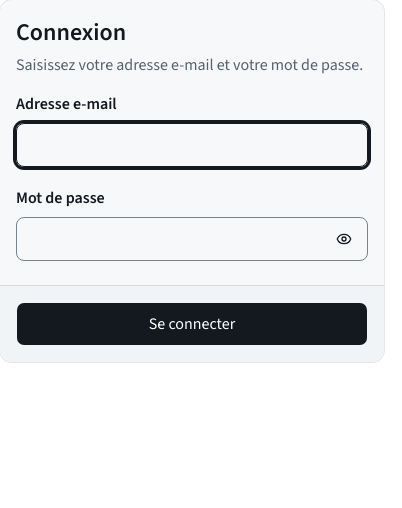
LoginForm › explains a lock-out in its own words, never with the server text
The width and height of the screenshot is (402, 508).
In the field labelled "Adresse e-mail": point(192, 145) [16,123,368,167], type "khawla@exemple.test"
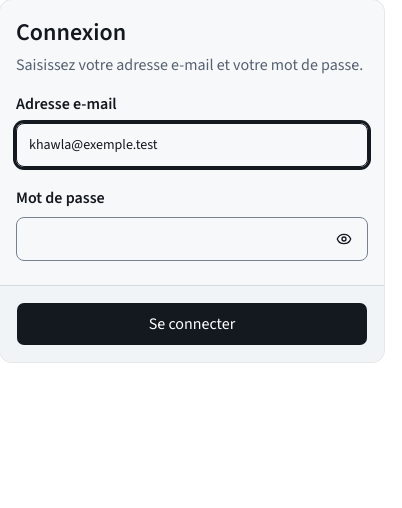
In the password field labelled "Mot de passe": point(192, 239) [16,217,368,261], type "x"
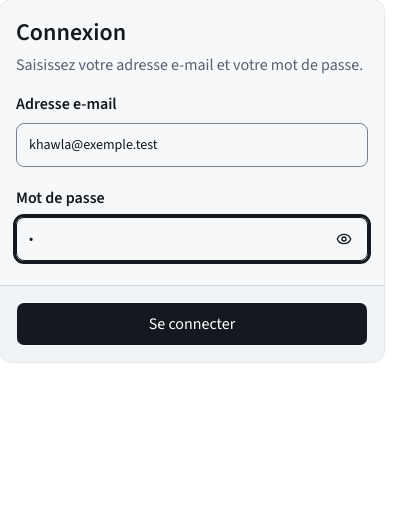
Click the button "Se connecter": point(192, 324) [16,302,368,346]
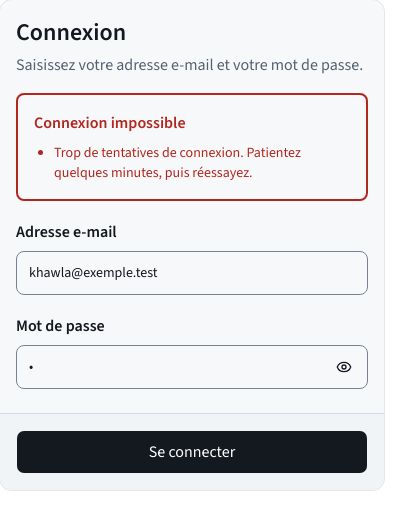
Check: the message does not show "Account locked", box [16,93,368,201]
Check: the message shows "Trop de tentatives de connexion", box [54,143,301,183]
